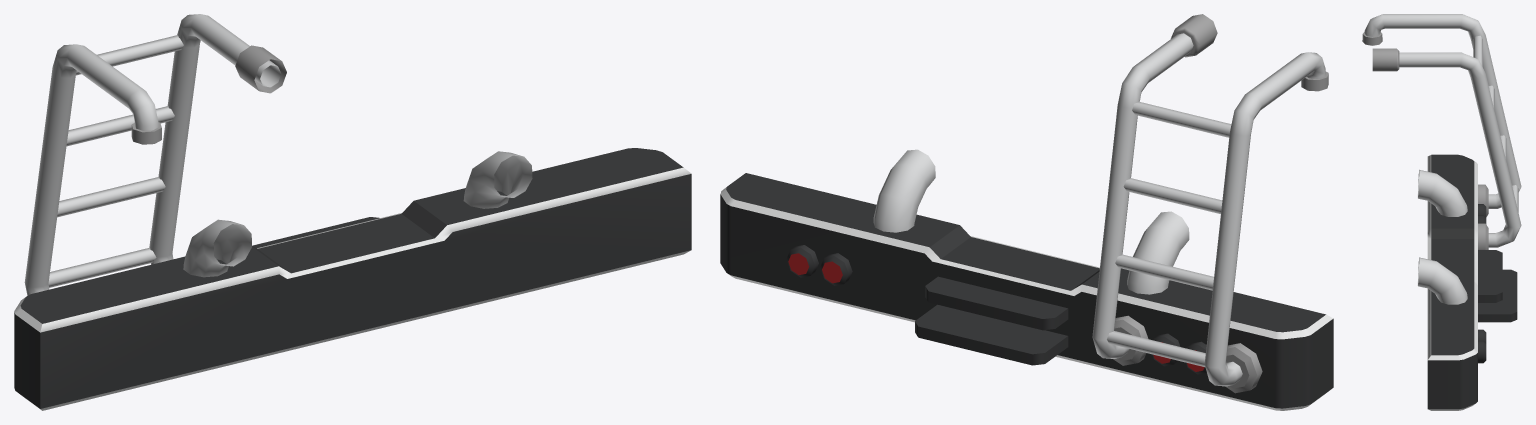
Rendered from Car_12_RearBumper_Cool.fbx.
The picture shows the model from 3 angles, left to right: view 1: azimuth 30°, elevation 25°; view 2: azimuth 150°, elevation 25°; view 3: azimuth 270°, elevation 25°; orthographic projection. The views are drawn at different scales.
Visible parts, largest first — view 1: Car_12_RearBumper_Cool; view 2: Car_12_RearBumper_Cool; view 3: Car_12_RearBumper_Cool.
Part boxes in pixels (bbox=[...]): Car_12_RearBumper_Cool: bbox=[14, 14, 691, 410]; Car_12_RearBumper_Cool: bbox=[720, 14, 1333, 410]; Car_12_RearBumper_Cool: bbox=[1362, 14, 1521, 410].
Bounding box in the file's own units: 177 × 58.44 × 88.52.
